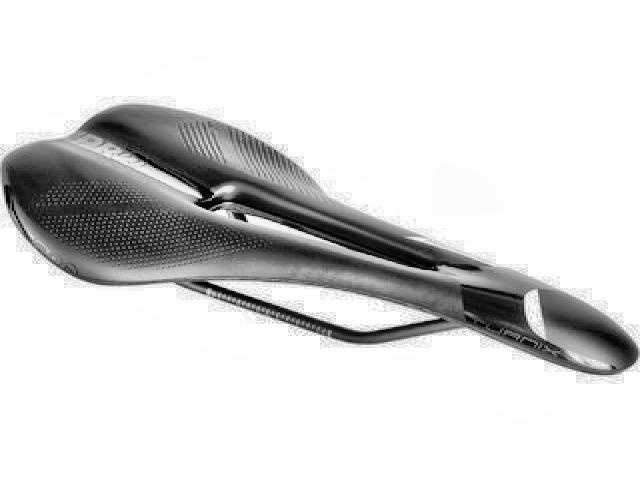saddle: (1, 100, 638, 382)
